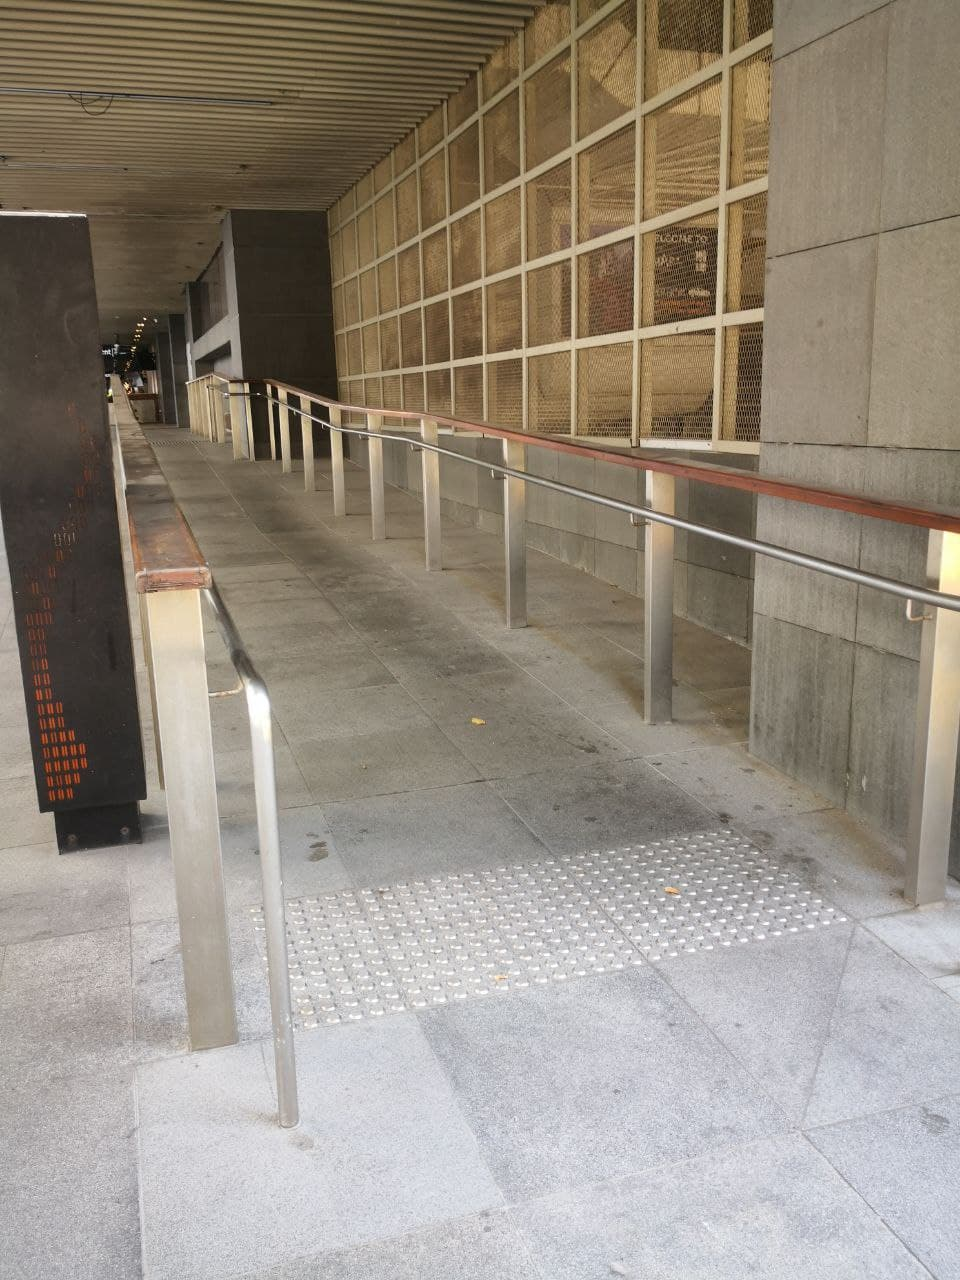slopes: (91, 350, 960, 1169)
